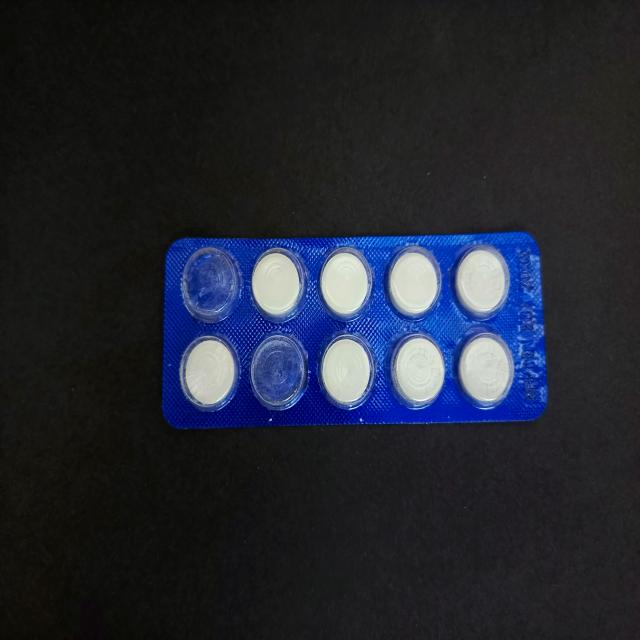defect: (249, 331, 312, 413), (180, 244, 242, 325)
